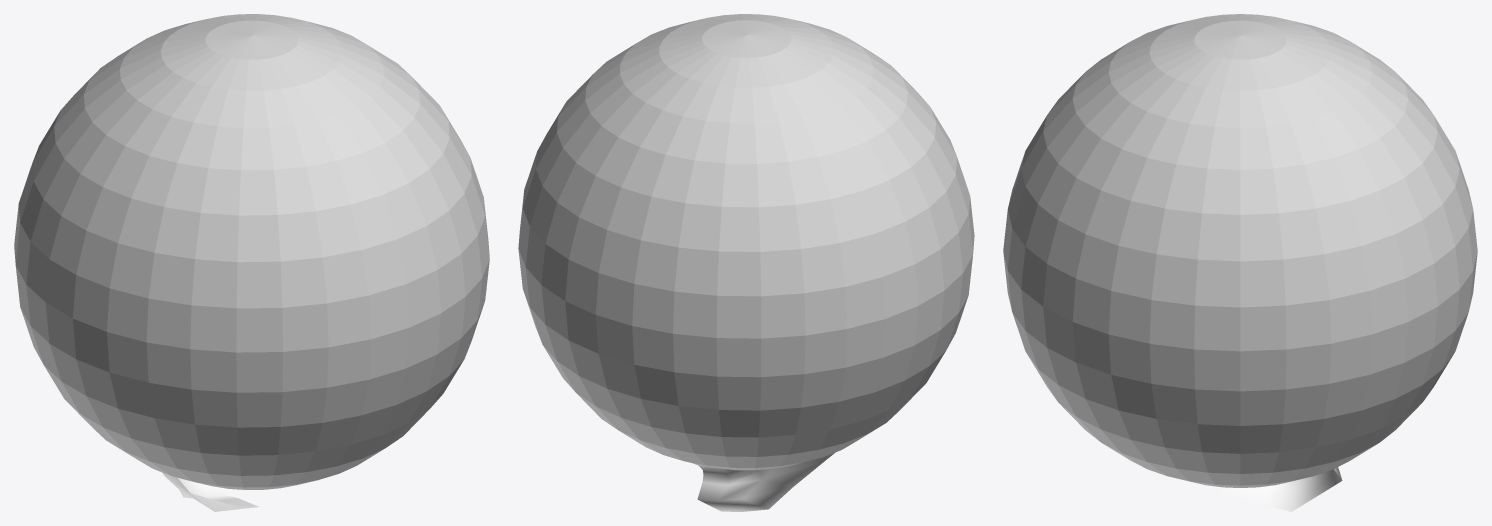
The model's file is mascaragris.glb.
3 views of the same model, side by side, from view 1: azimuth 30°, elevation 25°; view 2: azimuth 150°, elevation 25°; view 3: azimuth 270°, elevation 25° (orthographic). The views are drawn at different scales.
Parts seen in each view (by area): view 1: Sphere.024, Sphere, Sphere.022, Sphere.002, Sphere.001, Sphere.010, Sphere.005, Sphere.004, Sphere.011, Sphere.006, Sphere.023, Sphere.007 (+4 smaller); view 2: Sphere, Sphere.023, Sphere.022, Sphere.018, Sphere.004, Sphere.024, Sphere.017, Cube, Sphere.005, Sphere.019, Sphere.021; view 3: Sphere.018, Sphere.003, Sphere.022, Sphere.004, Sphere.001, Sphere.017, Sphere, Sphere.010, Sphere.023, Sphere.019, Sphere.005, Sphere.002 (+7 smaller).
Boxes of the visible parts, box(x1,y1,x2,y2) form: Sphere.024: box(61, 72, 328, 455); Sphere: box(32, 16, 315, 489); Sphere.022: box(26, 199, 217, 485); Sphere.002: box(44, 183, 440, 412); Sphere.001: box(363, 118, 489, 312); Sphere.010: box(306, 278, 482, 471); Sphere.005: box(294, 87, 414, 211); Sphere.004: box(252, 15, 449, 153); Sphere.011: box(369, 297, 465, 379); Sphere.006: box(281, 69, 370, 125); Sphere.023: box(14, 164, 489, 363); Sphere.007: box(252, 36, 333, 85); Sphere: box(595, 23, 929, 470); Sphere.023: box(598, 222, 918, 426); Sphere.022: box(725, 158, 974, 467); Sphere.018: box(518, 73, 662, 314); Sphere.004: box(619, 14, 800, 437); Sphere.024: box(822, 34, 957, 207); Sphere.017: box(518, 208, 660, 453); Cube: box(693, 452, 835, 511); Sphere.005: box(641, 399, 795, 456); Sphere.019: box(620, 35, 745, 110); Sphere.021: box(585, 43, 635, 99); Sphere.018: box(1085, 83, 1473, 484); Sphere.003: box(1108, 158, 1283, 425); Sphere.022: box(1156, 254, 1369, 453); Sphere.004: box(1101, 36, 1313, 200); Sphere.001: box(1021, 113, 1130, 334); Sphere.017: box(1291, 264, 1472, 481); Sphere: box(1111, 14, 1477, 310); Sphere.010: box(1012, 307, 1146, 461); Sphere.023: box(1072, 153, 1472, 418); Sphere.019: box(1208, 36, 1369, 485); Sphere.005: box(1043, 62, 1146, 148); Sphere.002: box(1003, 116, 1057, 288).
Bounding box in the file's own units: 2 × 2.21 × 2.
Materials: 1 (1 with a texture image).
